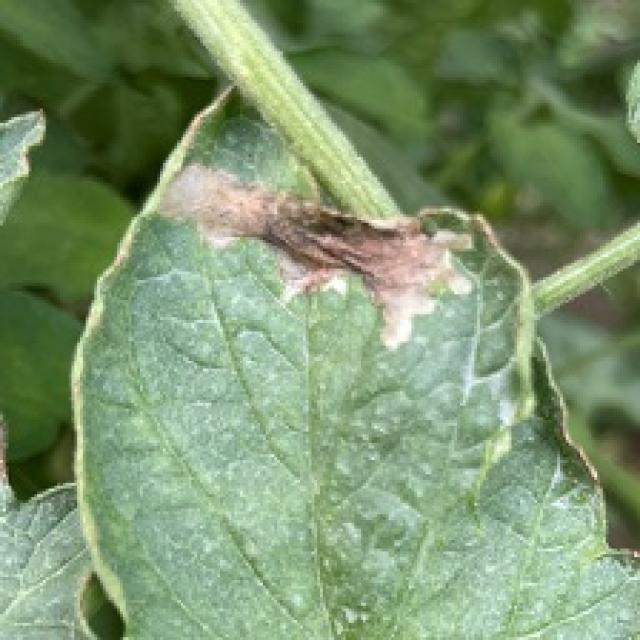Tuta absoluta: (150, 100, 489, 365)
